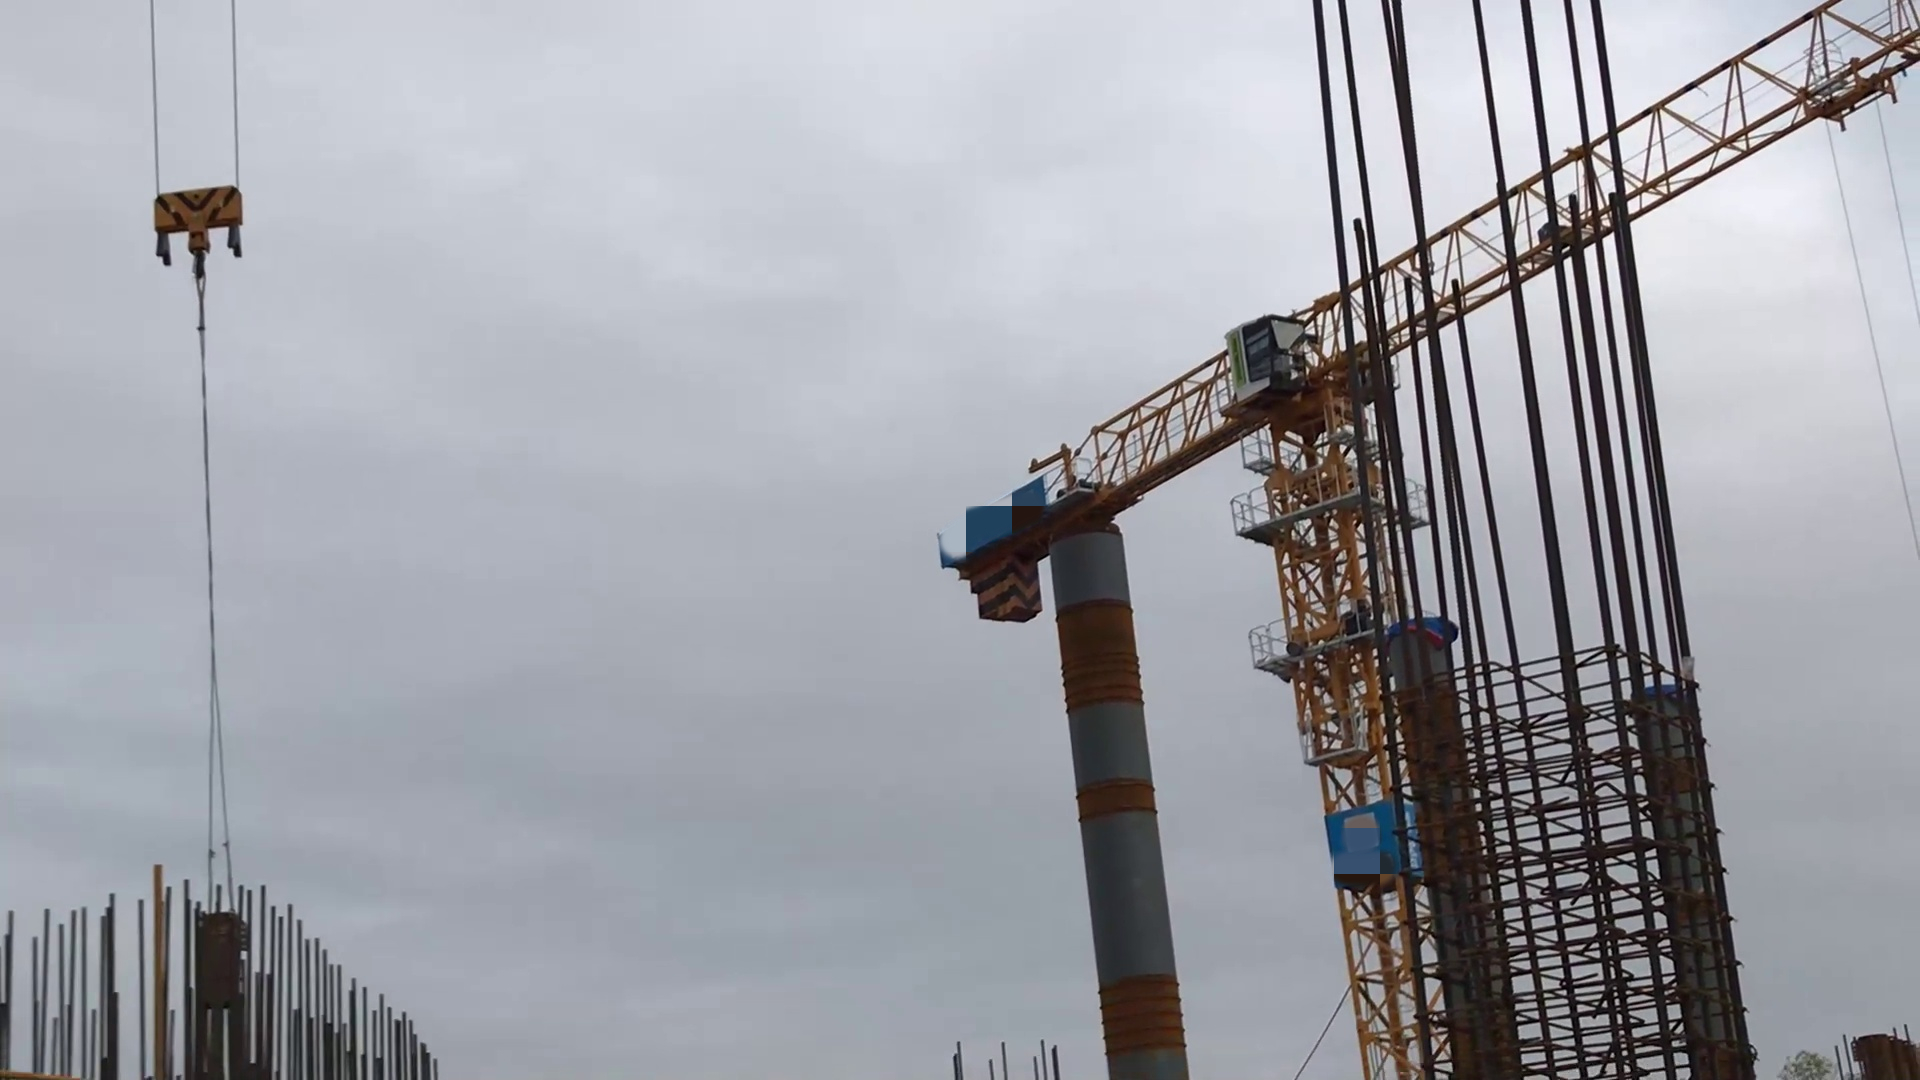hook: (150, 186, 255, 290)
